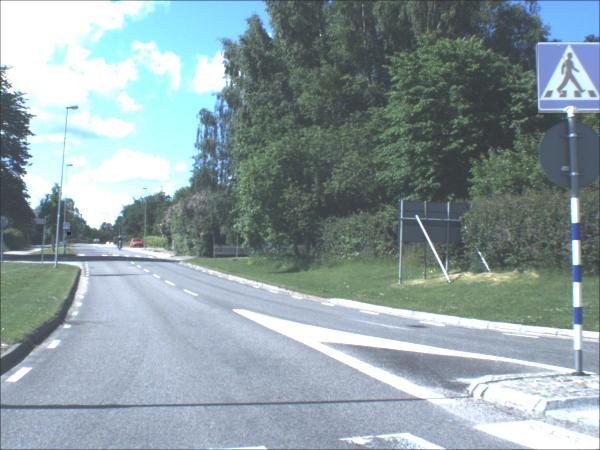PEDESTRIAN_CROSSING: (538, 43, 600, 116), (63, 224, 71, 232)
PRIORITY_ROAD: (67, 233, 72, 237)
